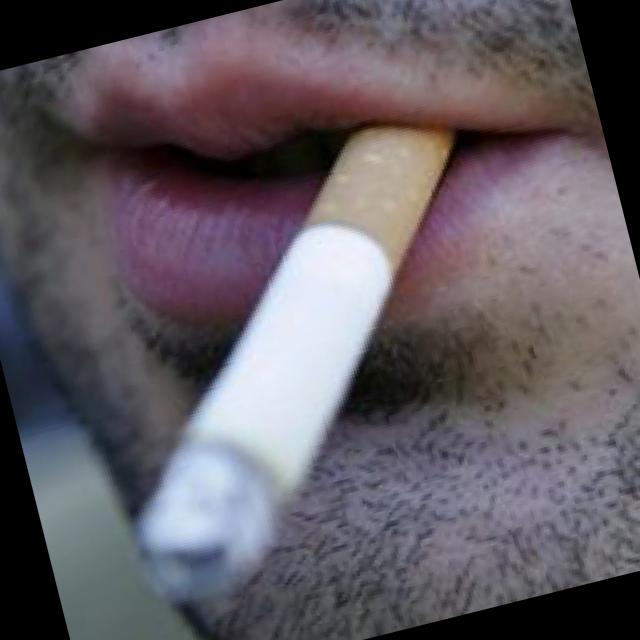smoke: (9, 69, 565, 618)
